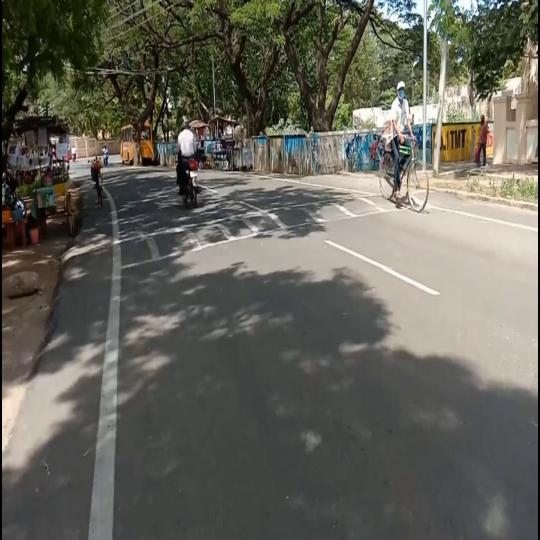Speed Bump: (73, 188, 452, 270)
